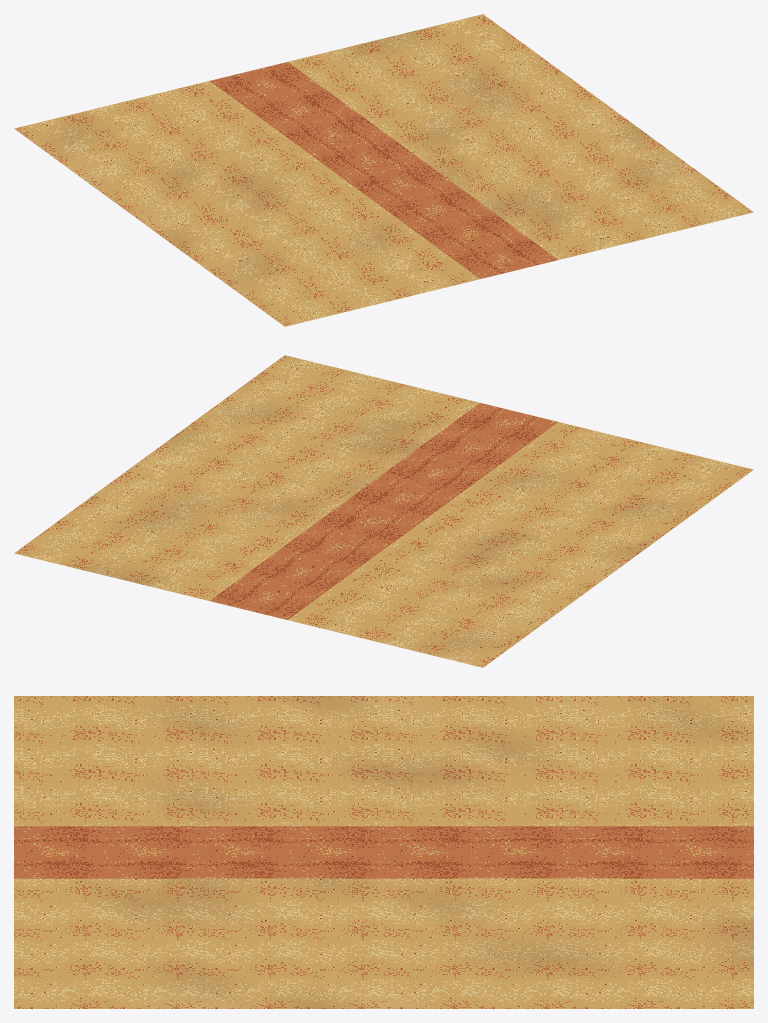
The model's file is wland.ground__main.glb.
The picture shows the model from 3 angles, top to bottom: view 1: azimuth 30°, elevation 25°; view 2: azimuth 150°, elevation 25°; view 3: azimuth 270°, elevation 25°; orthographic projection. The views are drawn at different scales.
Visible parts, largest first — view 1: kit_shell_ground; view 2: kit_shell_ground; view 3: kit_shell_ground.
Boxes of the visible parts, x1,y1,x2,y2 form: kit_shell_ground: [14, 14, 753, 326]; kit_shell_ground: [14, 355, 753, 667]; kit_shell_ground: [14, 696, 753, 1008].
Bounding box in the file's own units: 48 × 0.0203 × 48.
Materials: 2 (2 with a texture image).
